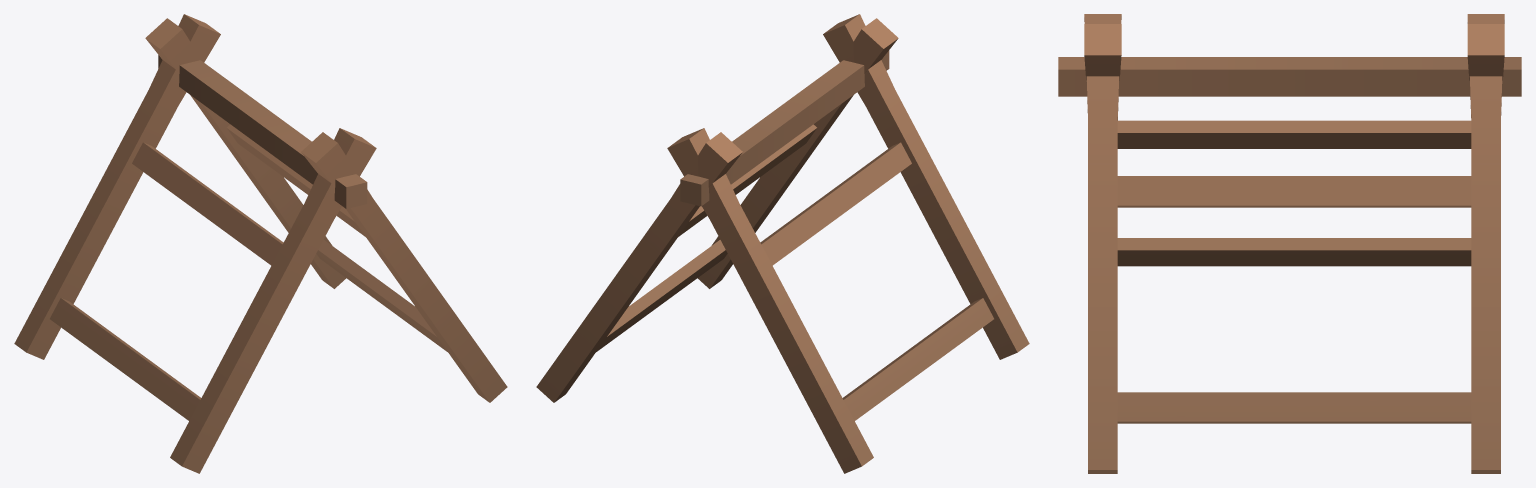
File: tent.glb
The picture shows the model from 3 angles, left to right: view 1: azimuth 30°, elevation 25°; view 2: azimuth 150°, elevation 25°; view 3: azimuth 270°, elevation 25°; orthographic projection. The views are drawn at different scales.
Parts seen in each view (by area): view 1: tent; view 2: tent; view 3: tent.
Part boxes in pixels (x1=…): tent: x1=14, y1=14, x2=507, y2=473; tent: x1=536, y1=14, x2=1029, y2=473; tent: x1=1058, y1=14, x2=1521, y2=473.
Size of the model in its own units: 0.5608 by 0.4914 by 0.561.
